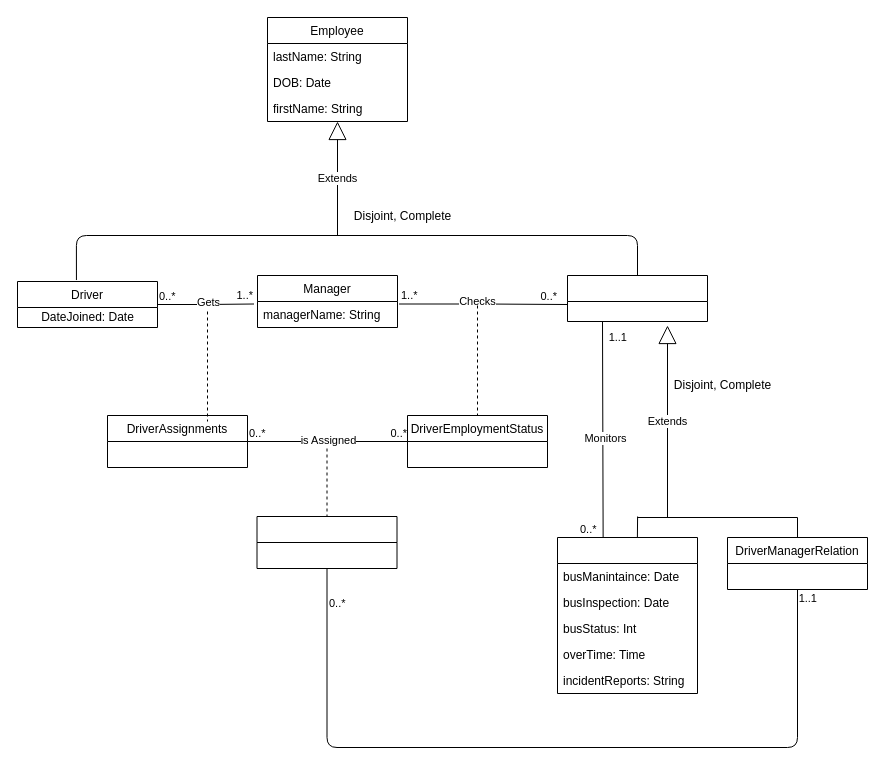
Image size: 885x766. Some labels were removed from this diagram. The box of each missing label's shape, as (x1, y1, x2, y2) in pixels:
Administrative: (566, 274, 708, 322)
BusRoute: (256, 516, 397, 568)
Tracking: (556, 536, 698, 694)
